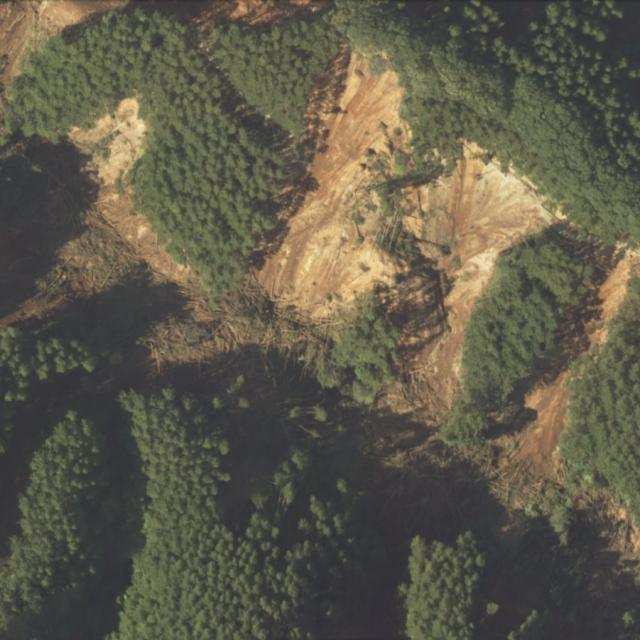landslide: (256, 53, 411, 319), (405, 142, 557, 410), (67, 98, 194, 285), (0, 0, 126, 103), (542, 243, 640, 375), (511, 372, 568, 479)
